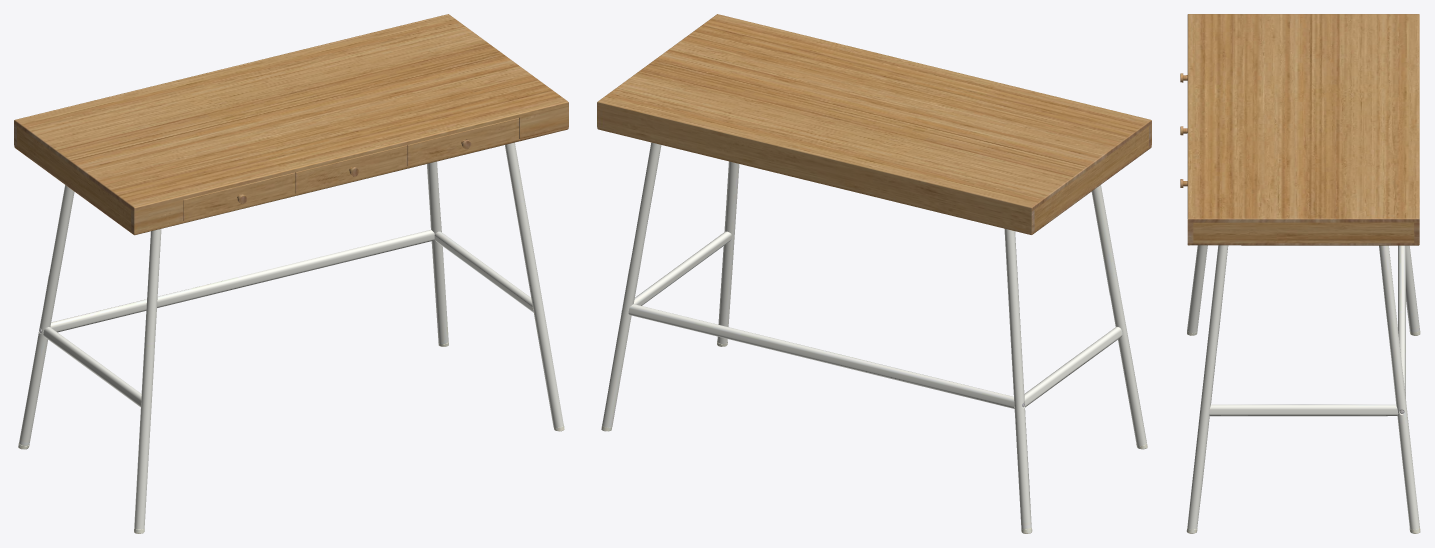
File: LILL_SEN_90278277.glb
3 renders of one model, left to right at view 1: azimuth 30°, elevation 25°; view 2: azimuth 150°, elevation 25°; view 3: azimuth 270°, elevation 25°, orthographic. The views are drawn at different scales.
Visible parts, largest first — view 1: model; view 2: model; view 3: model.
Part boxes in pixels (x1=…): model: x1=14, y1=14, x2=568, y2=533; model: x1=597, y1=14, x2=1151, y2=533; model: x1=1180, y1=14, x2=1420, y2=533.
Size of the model in its own units: 1.02 by 0.7374 by 0.5068.
Materials: 1 (1 with a texture image).
